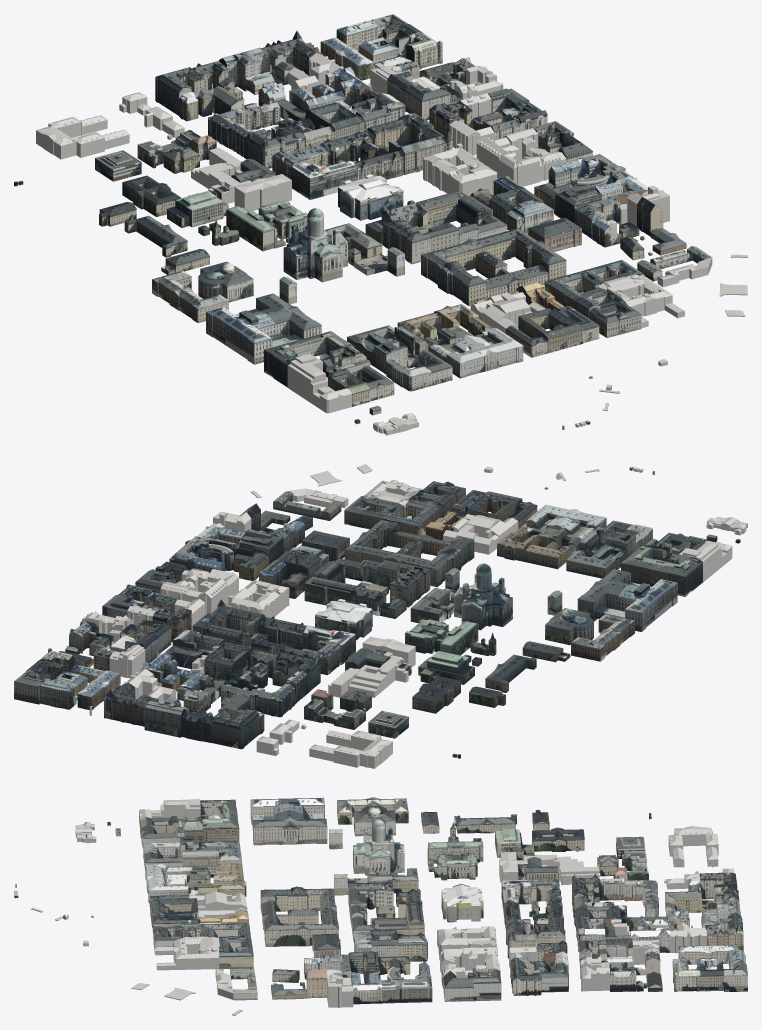
The model's file is buildings.glb.
3 views of the same model, one above another, from view 1: azimuth 30°, elevation 25°; view 2: azimuth 150°, elevation 25°; view 3: azimuth 270°, elevation 25° (orthographic). The views are drawn at different scales.
Visible parts, largest first — view 1: buildings; view 2: buildings; view 3: buildings.
Part boxes in pixels (x1,y1,x2,y2): buildings: (14,14,747,435); buildings: (14,464,747,768); buildings: (14,797,747,1015).
Bounding box in the file's own units: 537 × 71.75 × 835.
Materials: 5 (4 with a texture image).
